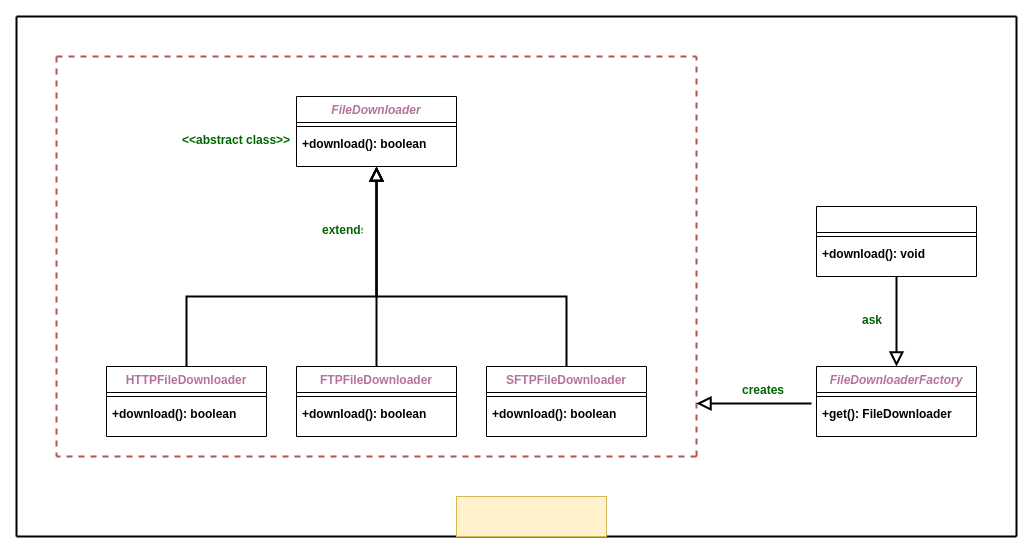
This 1033x553 diagram has some shape labels left out. The shapes that lost their labels are listed below. From the top down, each one's box as (x1, y1, x2, y2) in pixels, then its label:
(816, 206, 976, 276): DownloadFile
(456, 496, 606, 536): Class Diagram
